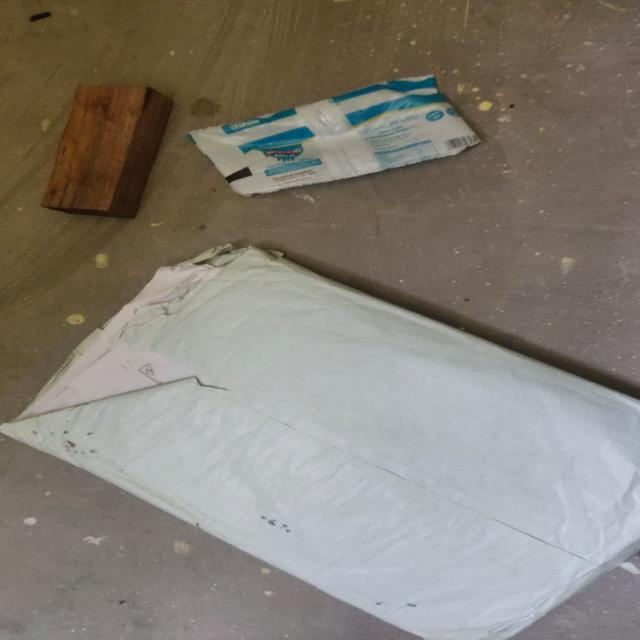paper: (0, 239, 640, 638)
plastic: (186, 78, 515, 198)
